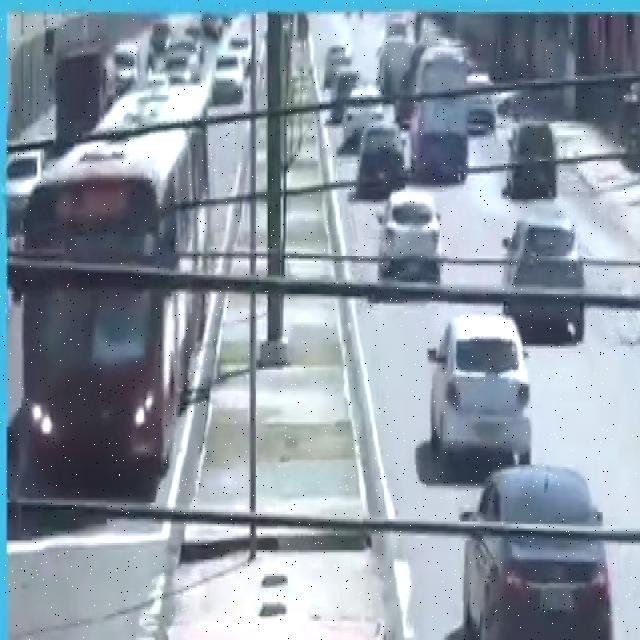car: (455, 450, 620, 640), (427, 306, 533, 470), (498, 211, 588, 347), (371, 186, 448, 294), (504, 121, 558, 195), (210, 43, 246, 124)
truck: (24, 91, 215, 491)
